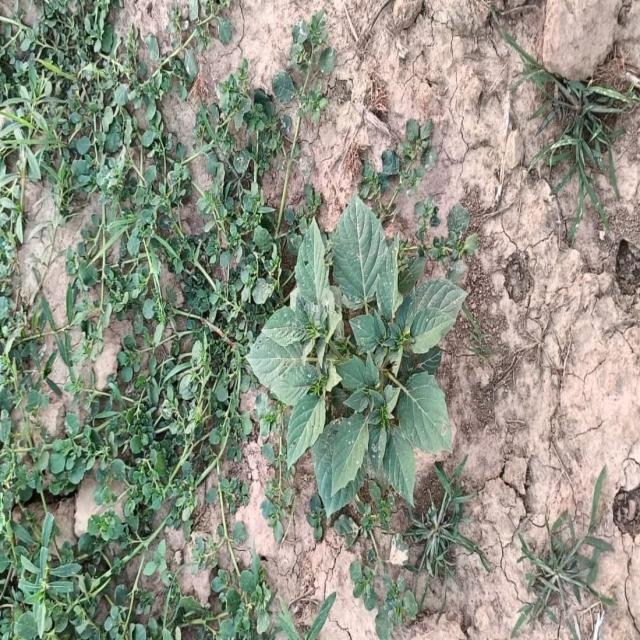weed: (247, 195, 466, 516)
